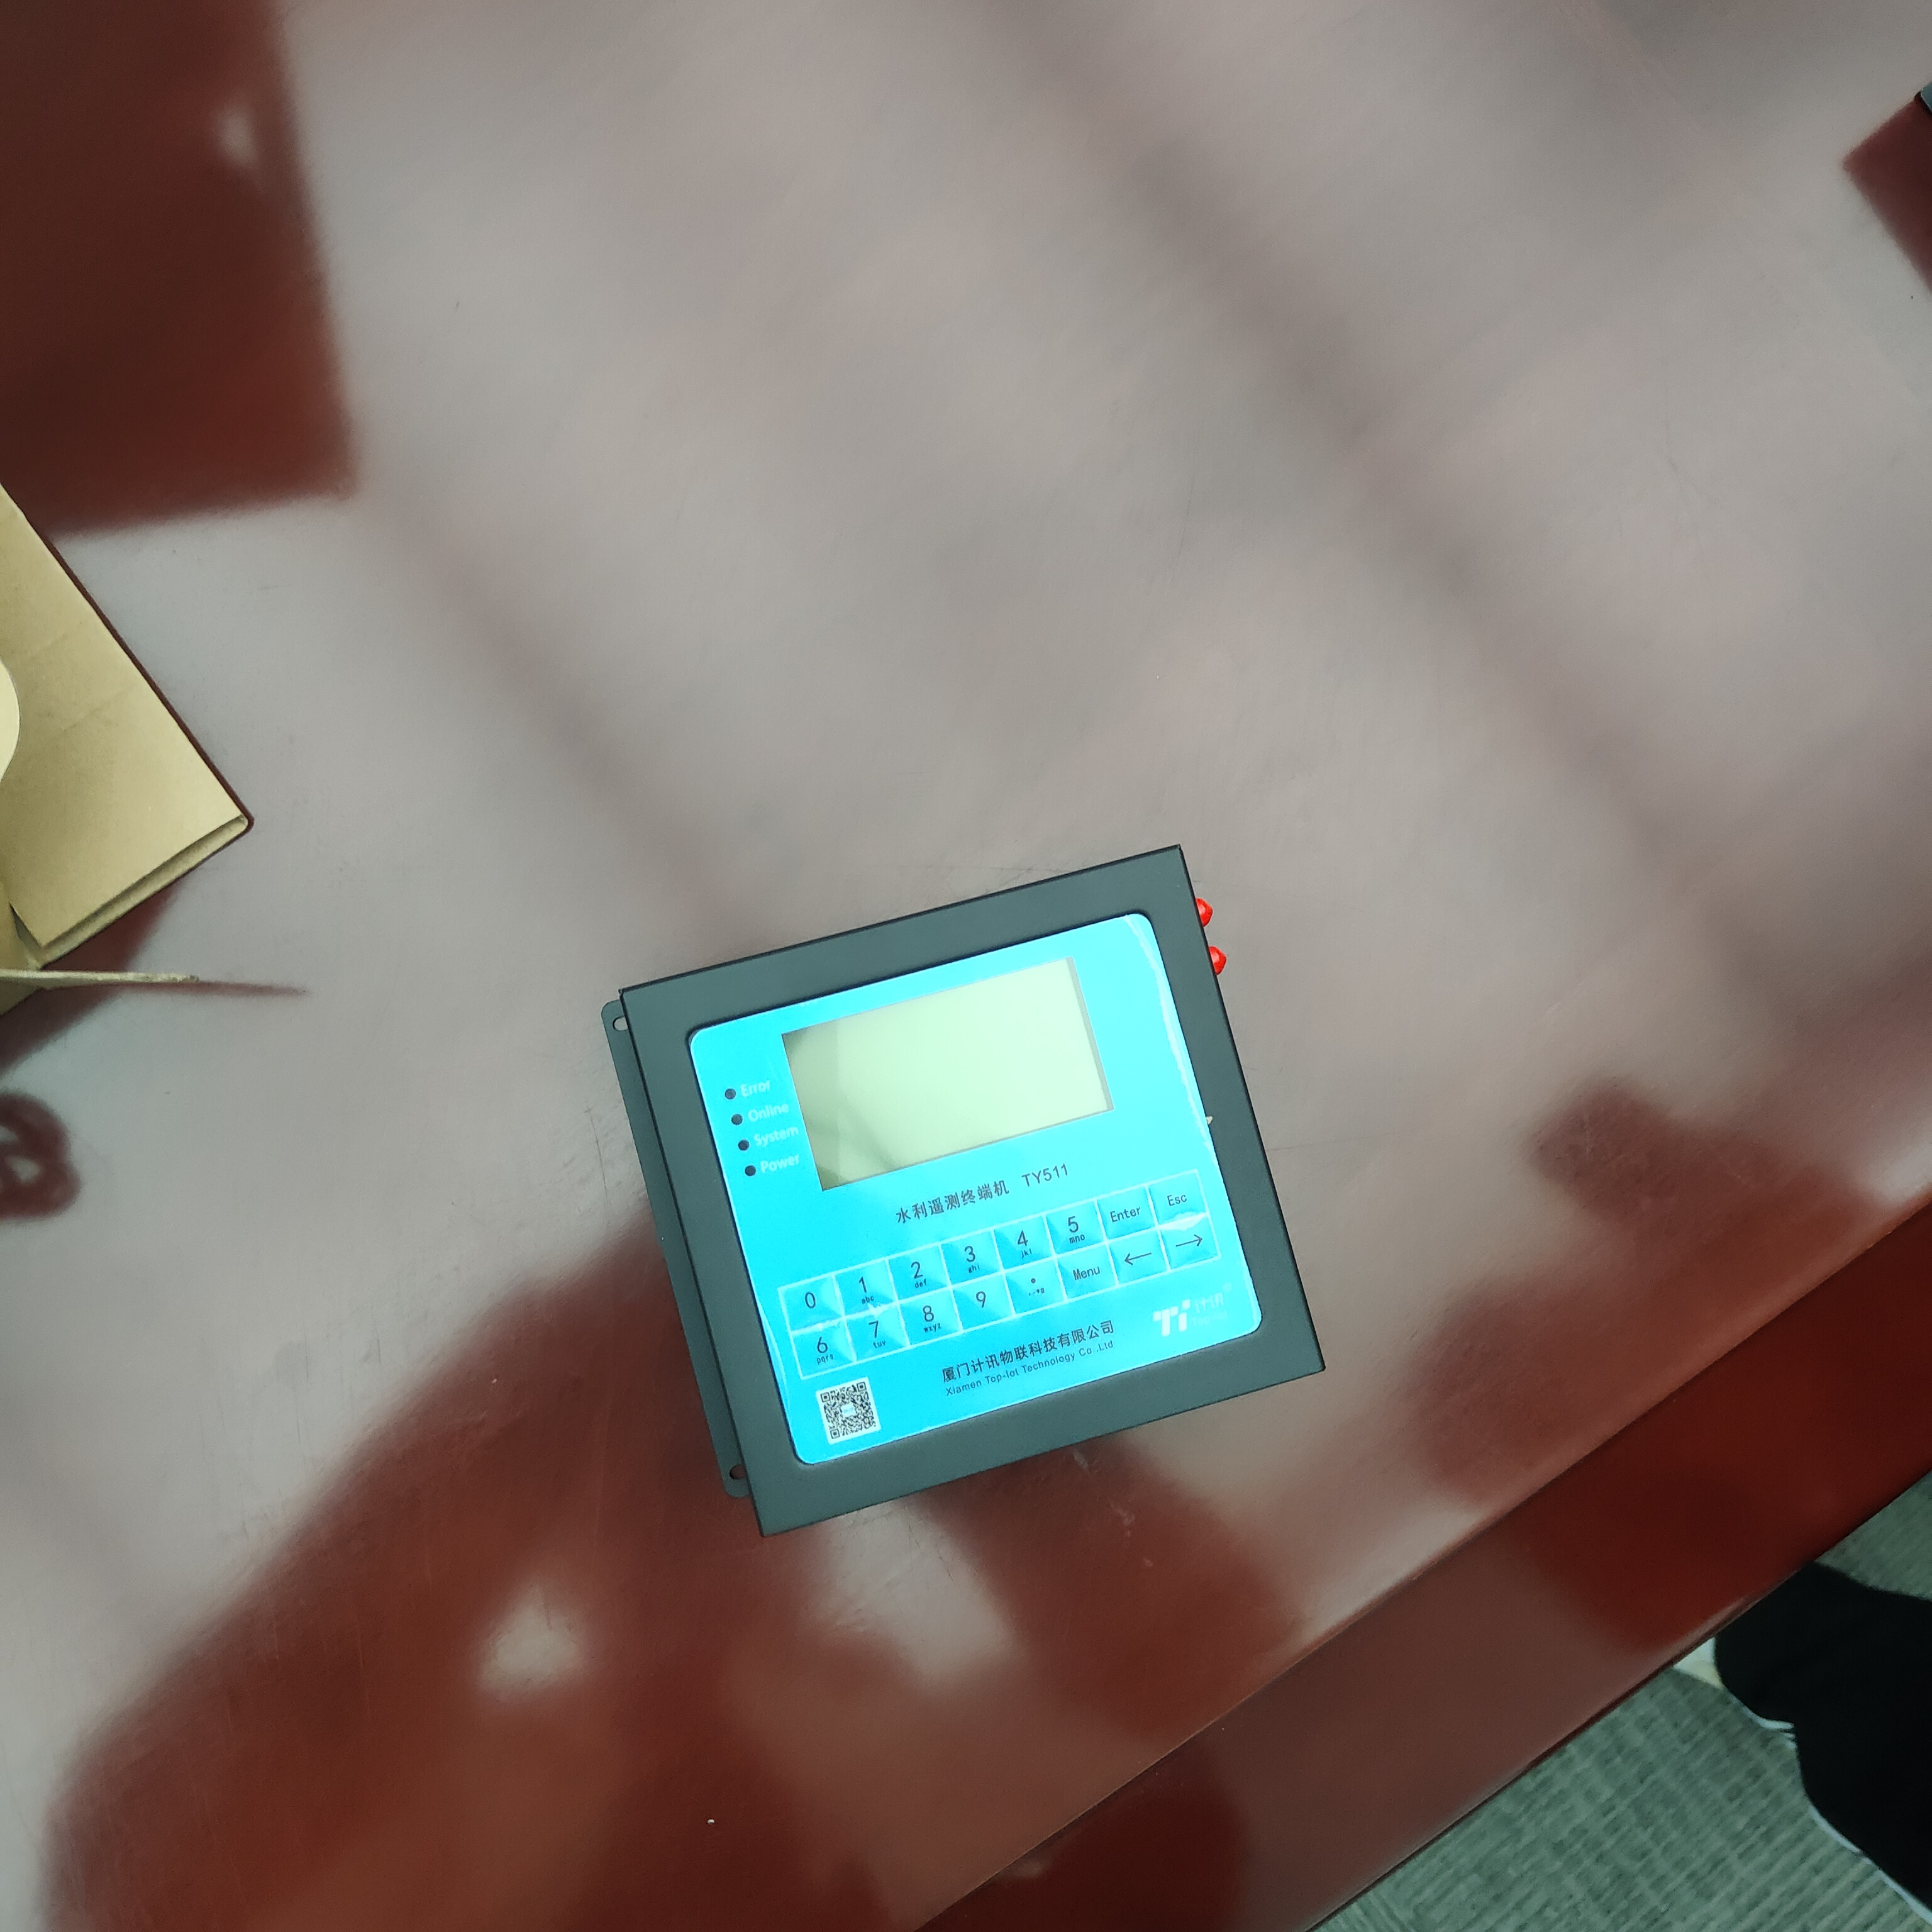slyczd: (589, 842, 1330, 1559)
